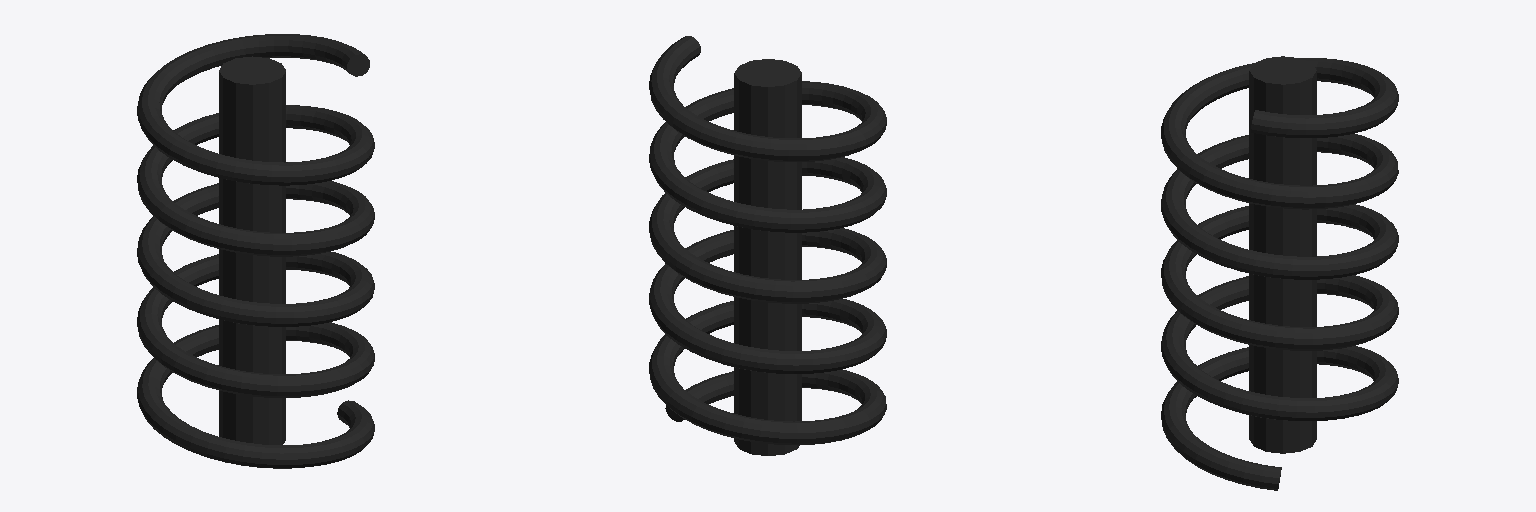
File: robot_back.obj
3 renders of one model, left to right at view 1: azimuth 30°, elevation 25°; view 2: azimuth 150°, elevation 25°; view 3: azimuth 270°, elevation 25°, orthographic.
Visible parts, largest first — view 1: Helix01, Line01; view 2: Helix01, Line01; view 3: Helix01, Line01.
Part boxes in pixels (left/top/right/bottom): Helix01: left=137, top=34, right=374, bottom=468; Line01: left=219, top=56, right=285, bottom=444; Helix01: left=649, top=36, right=886, bottom=444; Line01: left=734, top=59, right=801, bottom=455; Helix01: left=1161, top=58, right=1398, bottom=490; Line01: left=1249, top=56, right=1316, bottom=453.
Size of the model in its own units: 112 by 195 by 112.